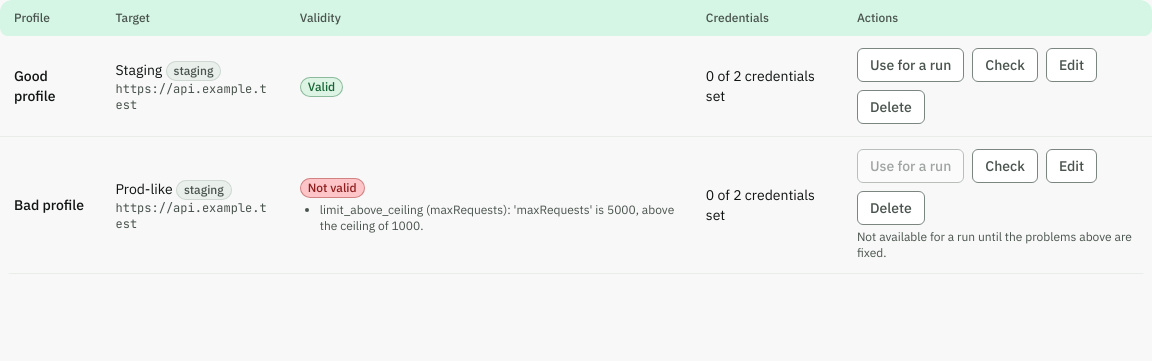
it: ProfileList (T088, FR-034, FR-040) › shows a check that could not run as an error
What coordinates should you click on to do the following:
click the button with aria-label "Check Good profile"
I would click on:
 (1005, 65)
Its box is x1=972 y1=48 x2=1038 y2=82.
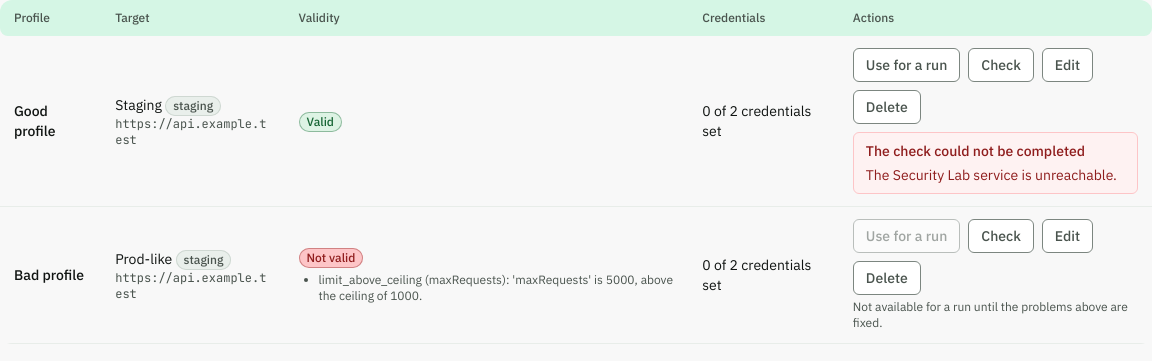
Check: the message with test id "profile-check-error" shows "The Security Lab service is unreachable.", box x1=866 y1=166 x2=1117 y2=184
